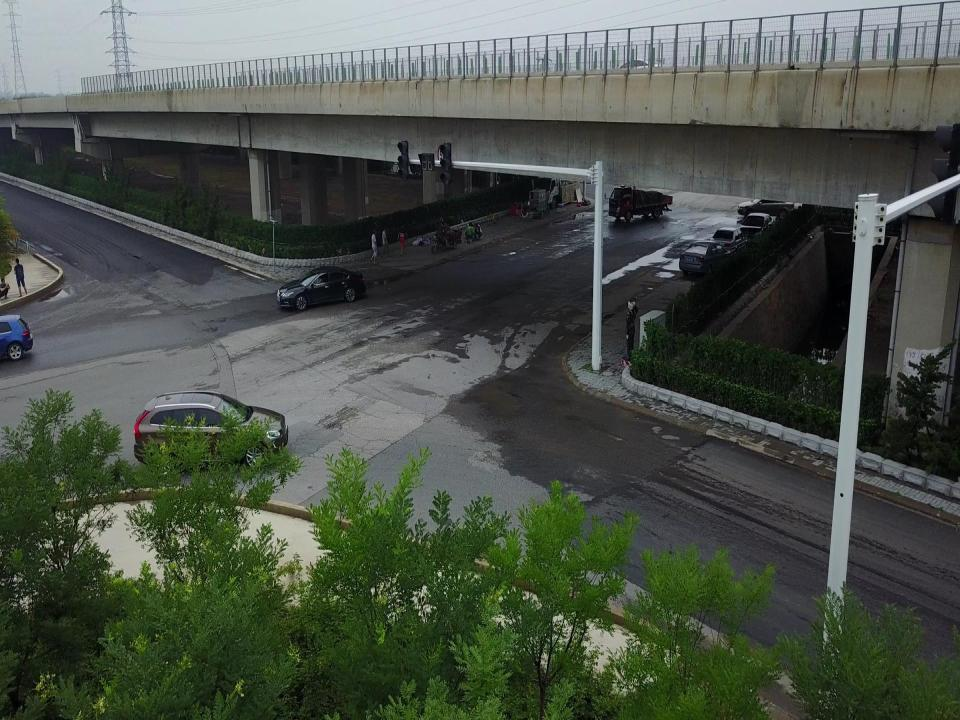car: (132, 388, 290, 478), (277, 267, 367, 312), (679, 239, 731, 278), (0, 314, 37, 364), (735, 197, 795, 220), (707, 227, 748, 254), (738, 212, 776, 238)
truck: (608, 185, 674, 221), (546, 176, 584, 206)
